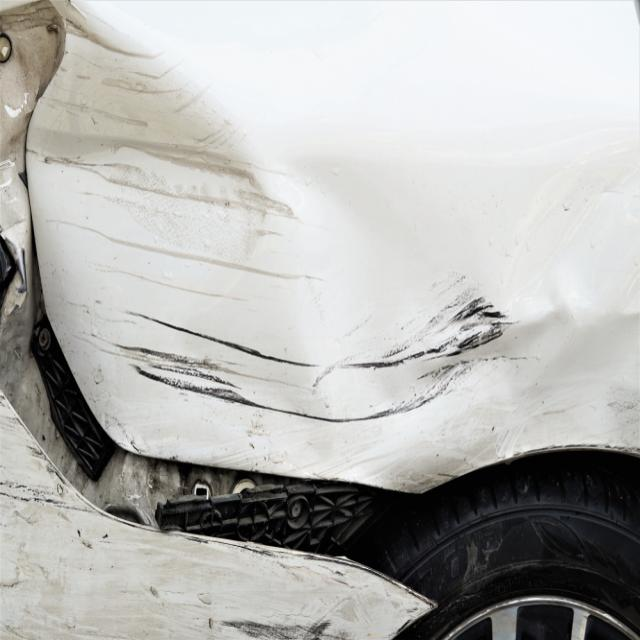Cabossage: (34, 0, 329, 483), (517, 181, 640, 439)
Dechirure: (2, 301, 446, 629)
Rayure: (26, 11, 322, 319), (91, 266, 519, 453)
